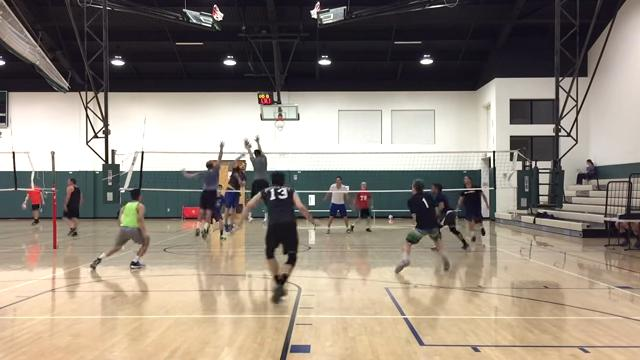Attack: (223, 149, 249, 238)
Block: (179, 134, 222, 241), (239, 133, 271, 226)
Player: (241, 172, 313, 302), (395, 179, 449, 272), (90, 189, 149, 269), (431, 183, 468, 249), (457, 176, 489, 241), (324, 176, 350, 233), (350, 182, 373, 231), (210, 184, 225, 240)
ball: (244, 140, 252, 150)
